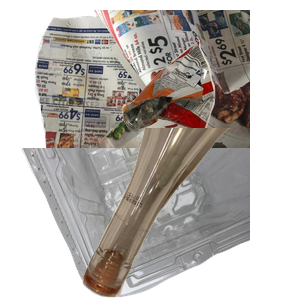glass: (80, 128, 300, 300)
paper: (32, 10, 272, 190)
plastic: (19, 148, 259, 300)
trash: (120, 38, 300, 164)
